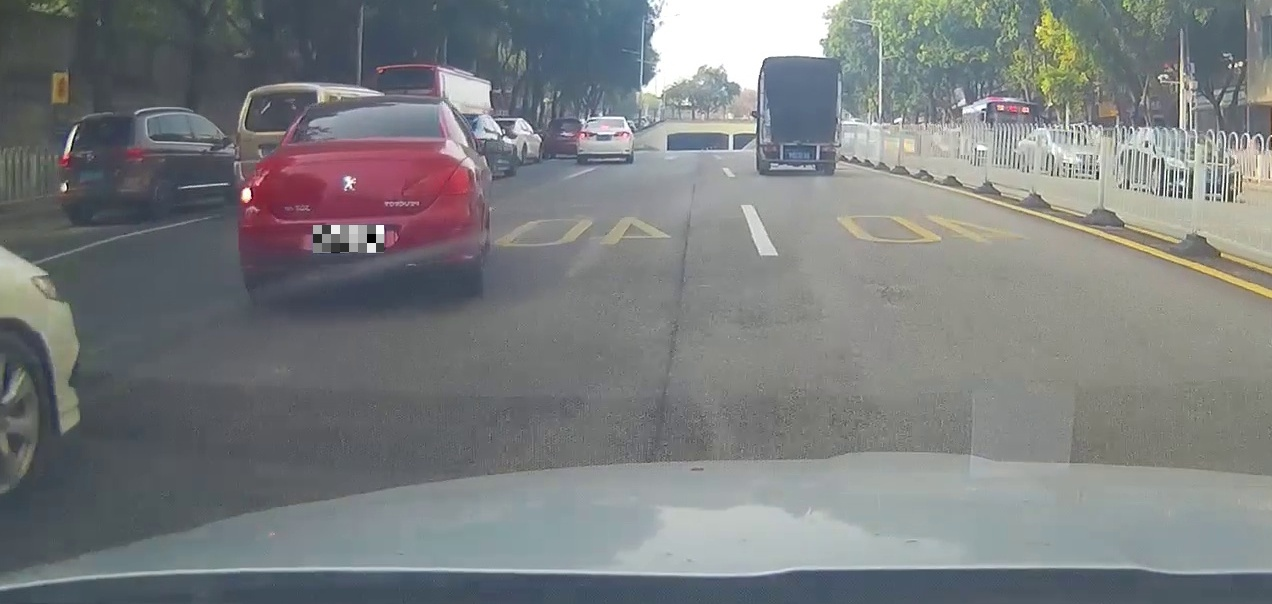L_light: (240, 178, 267, 209), (60, 152, 71, 168), (578, 130, 594, 139), (763, 146, 777, 152)
R_light: (403, 166, 469, 196), (124, 148, 144, 164), (613, 130, 630, 139), (822, 146, 837, 153)
T_light: (360, 100, 396, 108), (792, 137, 807, 141), (93, 119, 107, 123), (600, 126, 608, 128)
day-brake: (576, 116, 631, 164)
day-left: (237, 94, 481, 304)
day-no: (759, 56, 842, 175), (59, 111, 146, 224)
plate_1: (313, 225, 384, 253)
